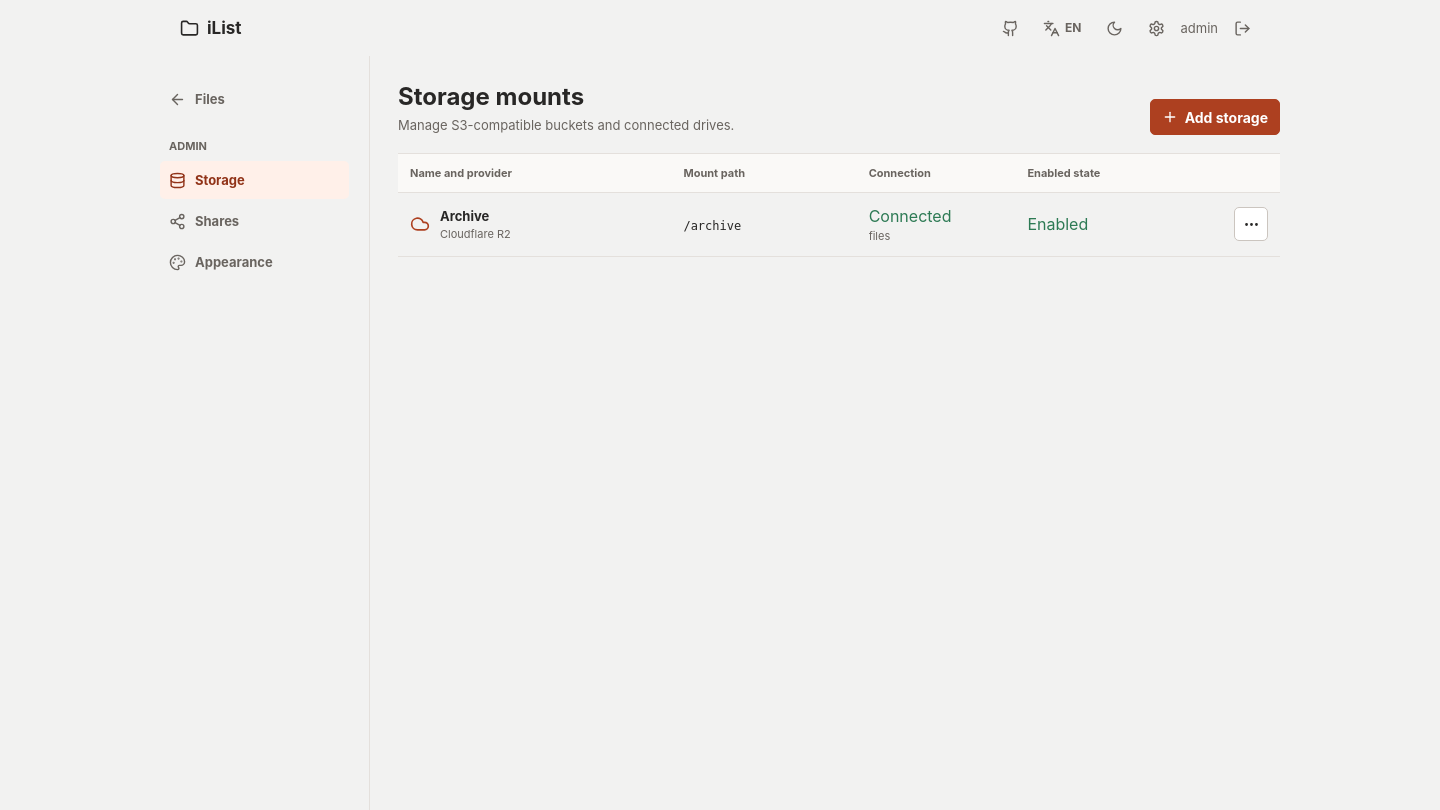
MountManager › lists mounts without exposing credentials and tests a connection
The width and height of the screenshot is (1440, 810).
Expected: the heading "Storage mounts" is shown, [398, 82, 584, 111]
Expected: the text "Archive" is shown, [440, 208, 489, 224]
Click the button named "Actions for Archive". click: (1251, 224)
box: [1234, 207, 1268, 241]
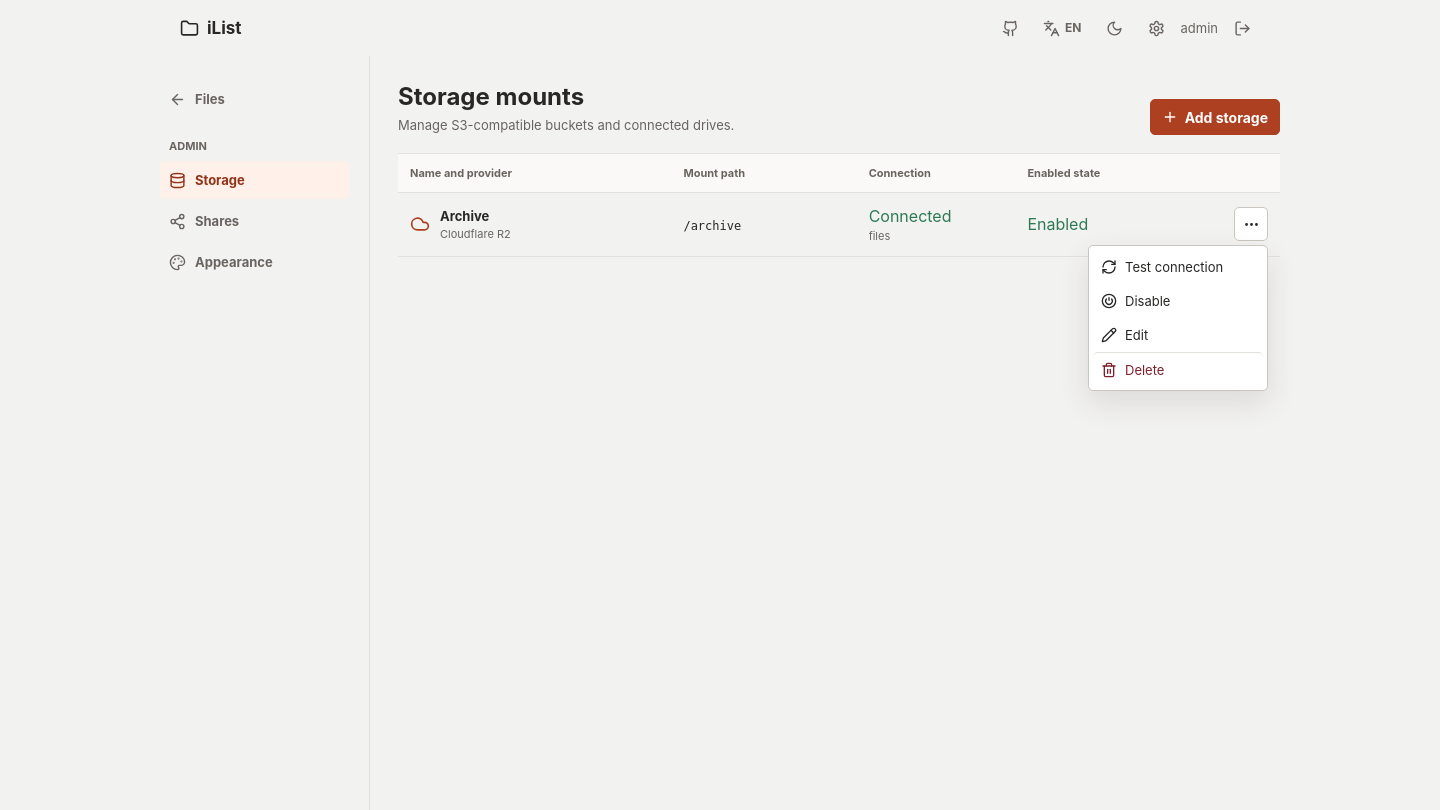
Click the button "Test connection". click: (1178, 267)
box: [1093, 250, 1263, 284]
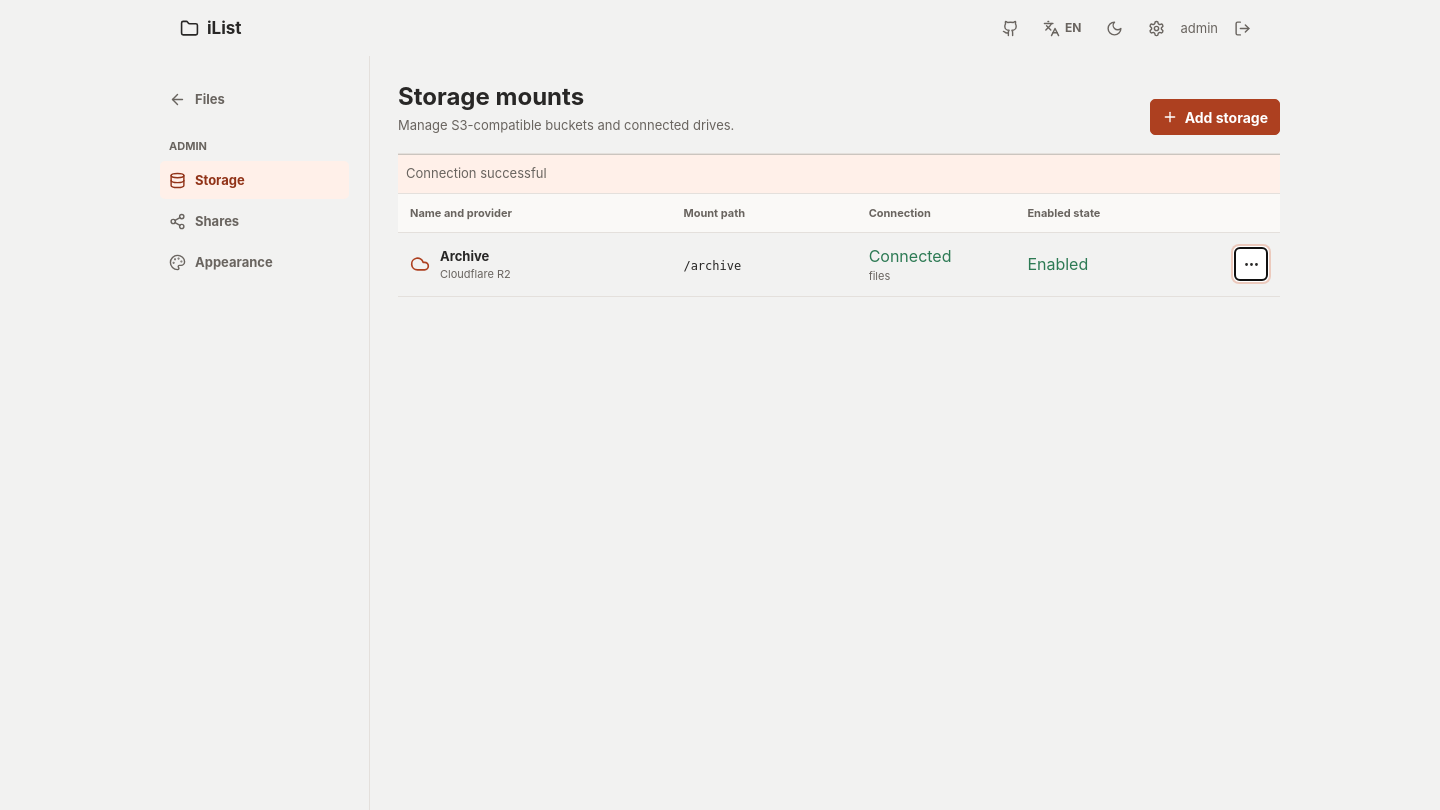
Now the text "Connection successful" is shown, box [398, 154, 1280, 194]
